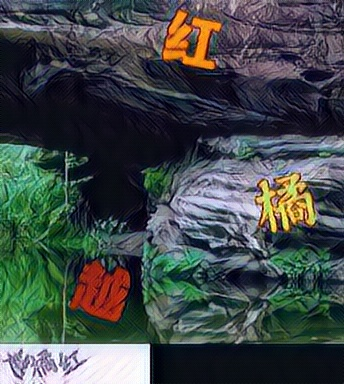BAEC: (160, 5, 221, 70)
D4BD: (69, 256, 130, 321)
E9D9: (254, 168, 315, 233)
